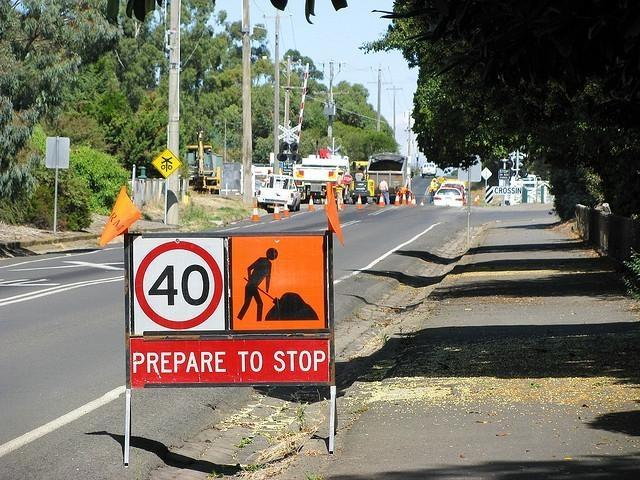car: (432, 187, 464, 207), (440, 180, 466, 194), (420, 162, 438, 178)
truck: (293, 149, 352, 202), (255, 174, 301, 213), (350, 167, 370, 197)
